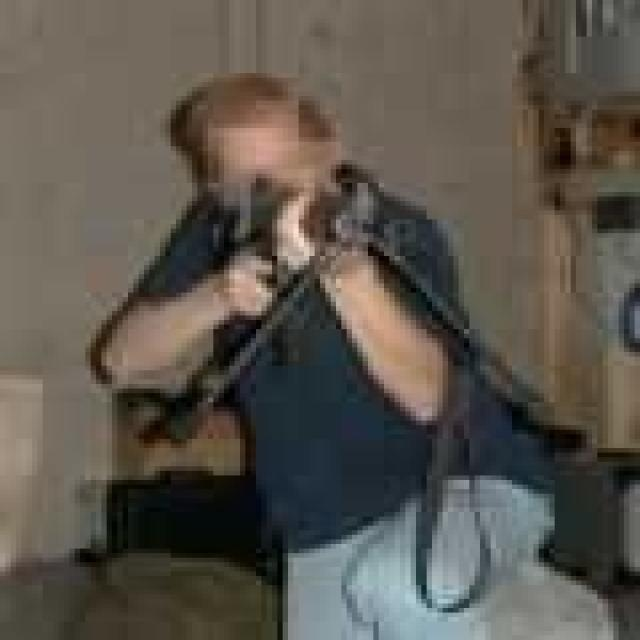Rifle: (297, 176, 398, 252)
